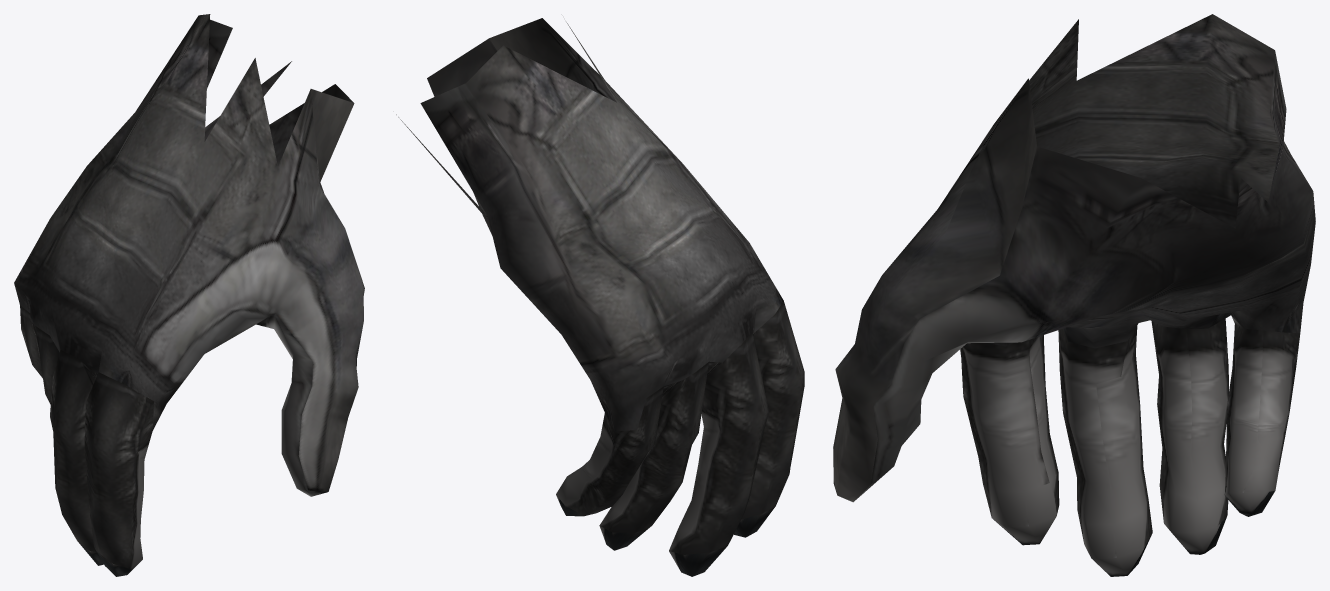
File: gordon_mano_der.obj
3 renders of one model, left to right at view 1: azimuth 30°, elevation 25°; view 2: azimuth 150°, elevation 25°; view 3: azimuth 270°, elevation 25°, orthographic. The views are drawn at different scales.
Visible parts, largest first — view 1: gordon_mano_der; view 2: gordon_mano_der; view 3: gordon_mano_der.
Part boxes in pixels (x1,y1,x2,y2): gordon_mano_der: (14,14,364,576); gordon_mano_der: (396,18,804,576); gordon_mano_der: (833,14,1315,576).
Size of the model in its own units: 0.0967 by 0.1511 by 0.1008.
